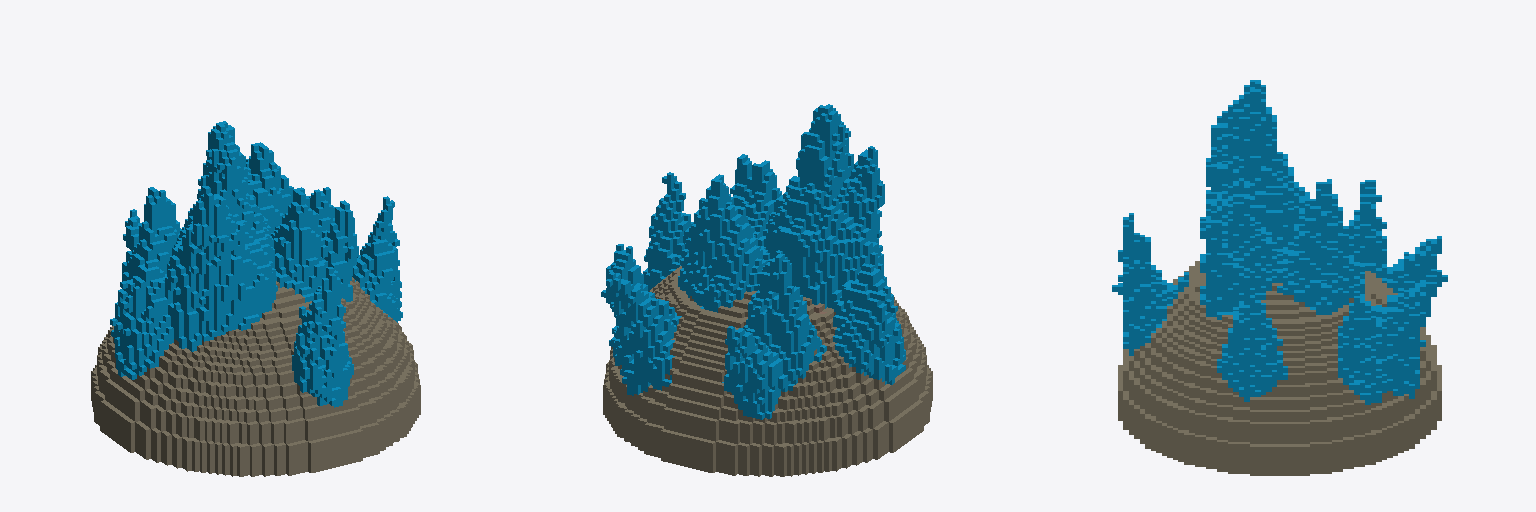
3 views of the same model, side by side, from view 1: azimuth 30°, elevation 25°; view 2: azimuth 150°, elevation 25°; view 3: azimuth 270°, elevation 25° (orthographic).
Bounding box in the file's own units: 59 × 61 × 61.
1 materials, 1 textured.